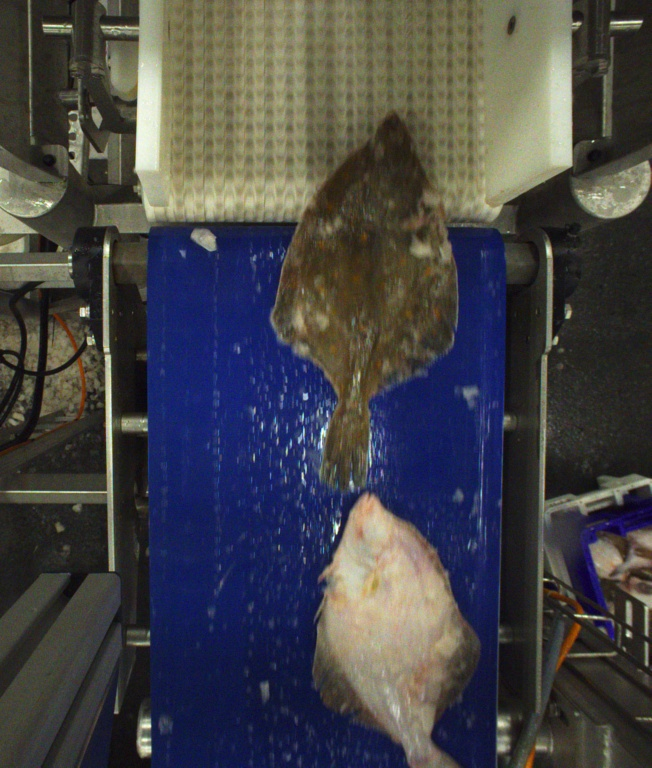PLE: (268, 112, 458, 491)
